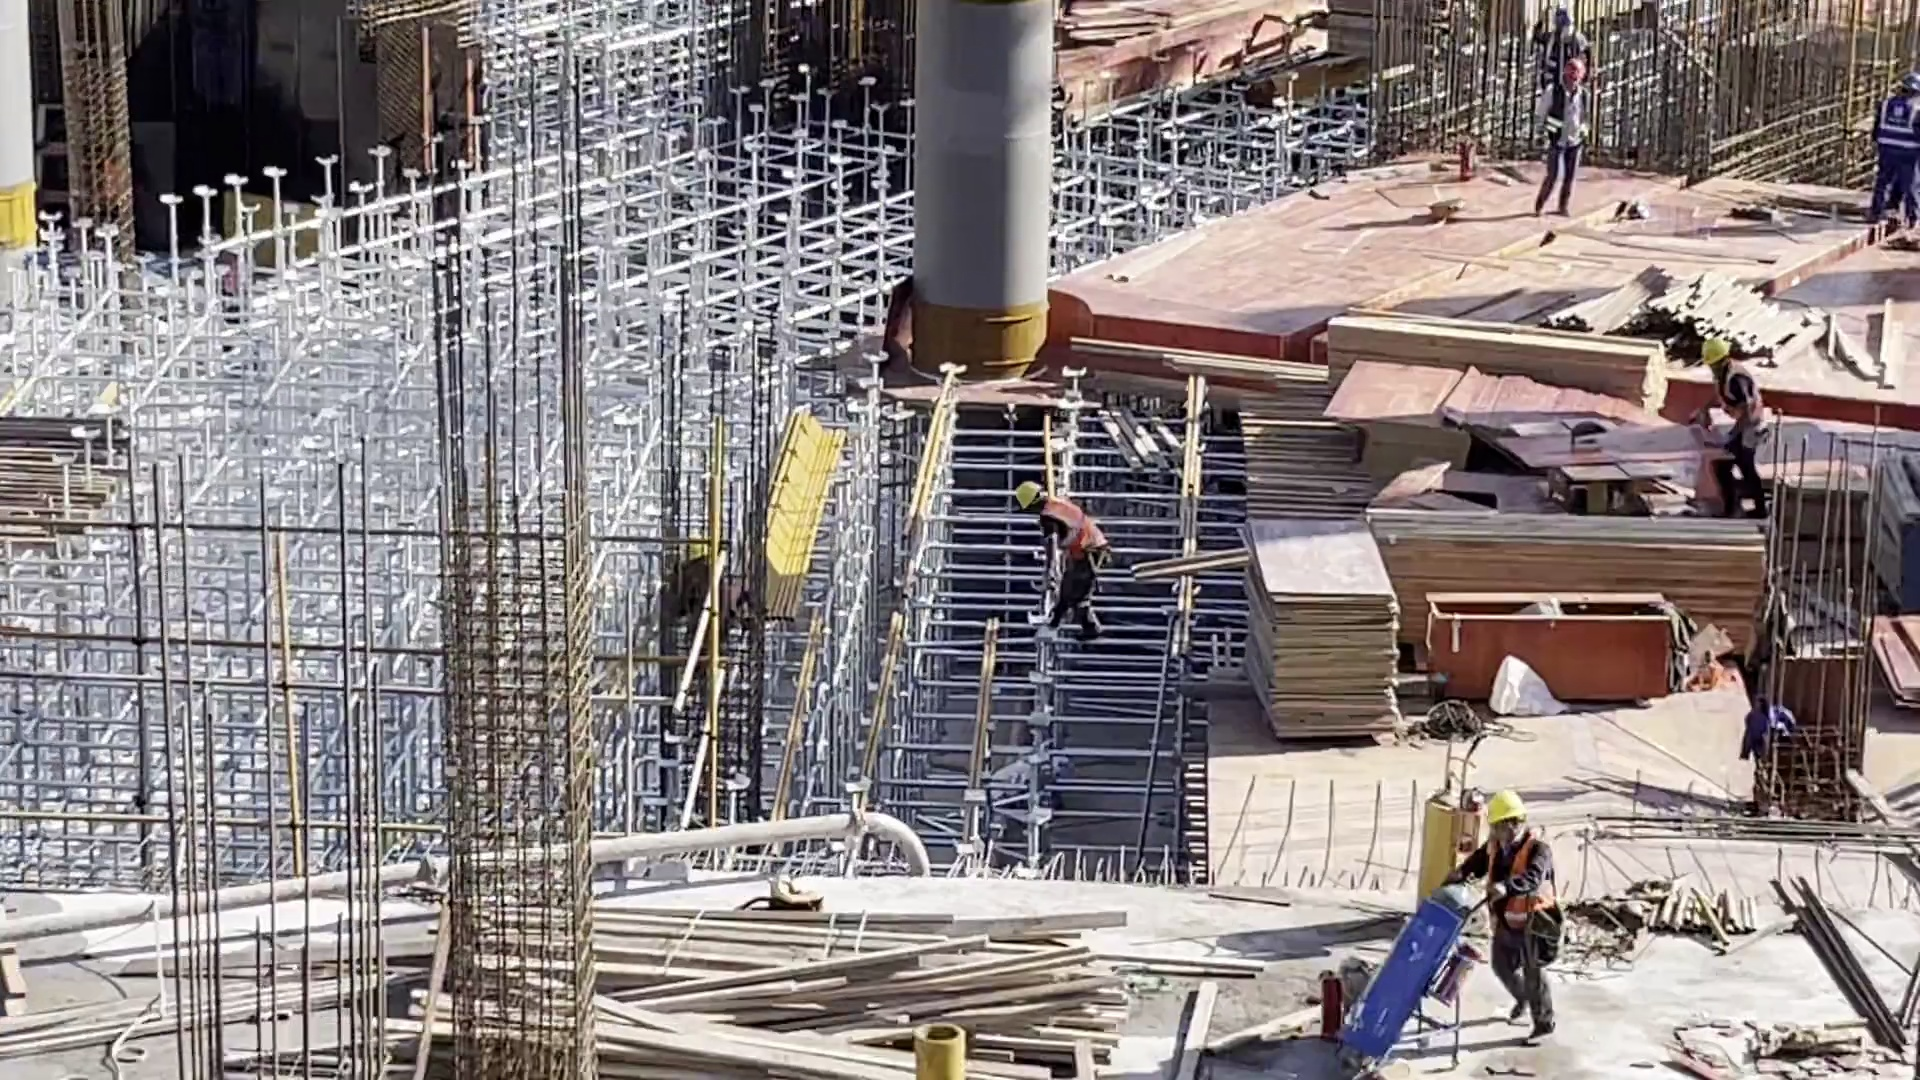board: (1224, 511, 1403, 734), (1325, 361, 1471, 486)
cutter: (1503, 407, 1679, 516)
helmet: (1477, 789, 1531, 830), (1012, 477, 1047, 513), (1701, 335, 1730, 371), (1894, 69, 1920, 97), (1556, 57, 1586, 80)
person: (1475, 789, 1570, 1030), (1015, 481, 1106, 649), (1696, 331, 1770, 519), (1531, 60, 1587, 215), (1874, 69, 1920, 240), (1537, 4, 1588, 58)
rebar: (1767, 869, 1915, 1080), (1592, 801, 1920, 854)
vest: (1480, 835, 1560, 943), (1705, 365, 1764, 448), (1040, 497, 1110, 566), (1543, 83, 1590, 148), (1877, 98, 1920, 146)
wood: (596, 903, 1137, 1080), (1553, 256, 1905, 384), (1369, 501, 1771, 604), (1317, 308, 1669, 395)
